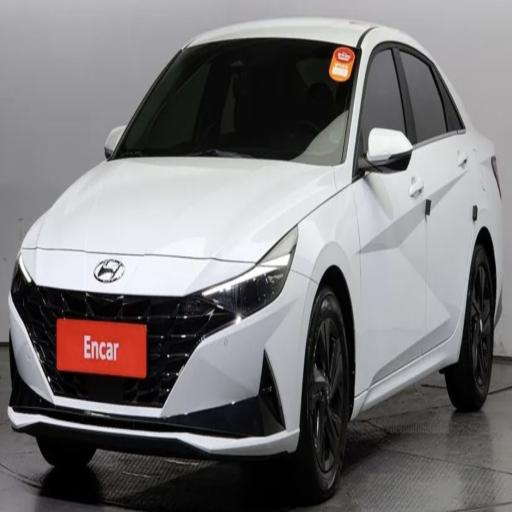normal: (21, 3, 512, 479)
